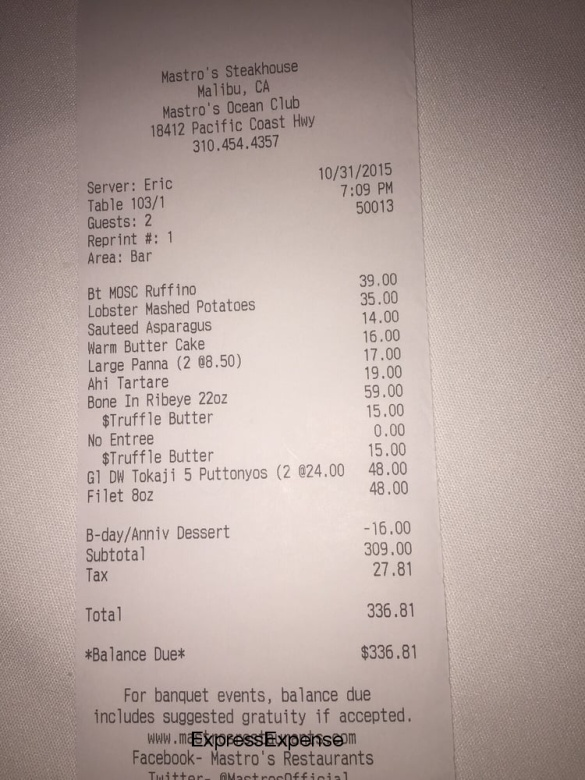Additional details: (81, 682, 404, 780)
Purchase summary: (73, 157, 426, 681)
Receipt: (76, 1, 451, 779)
Shop details: (145, 48, 338, 158)
